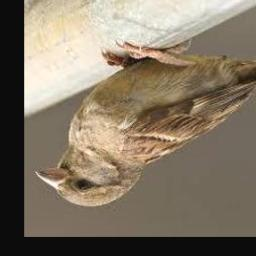Sparrow: (35, 41, 256, 208)
